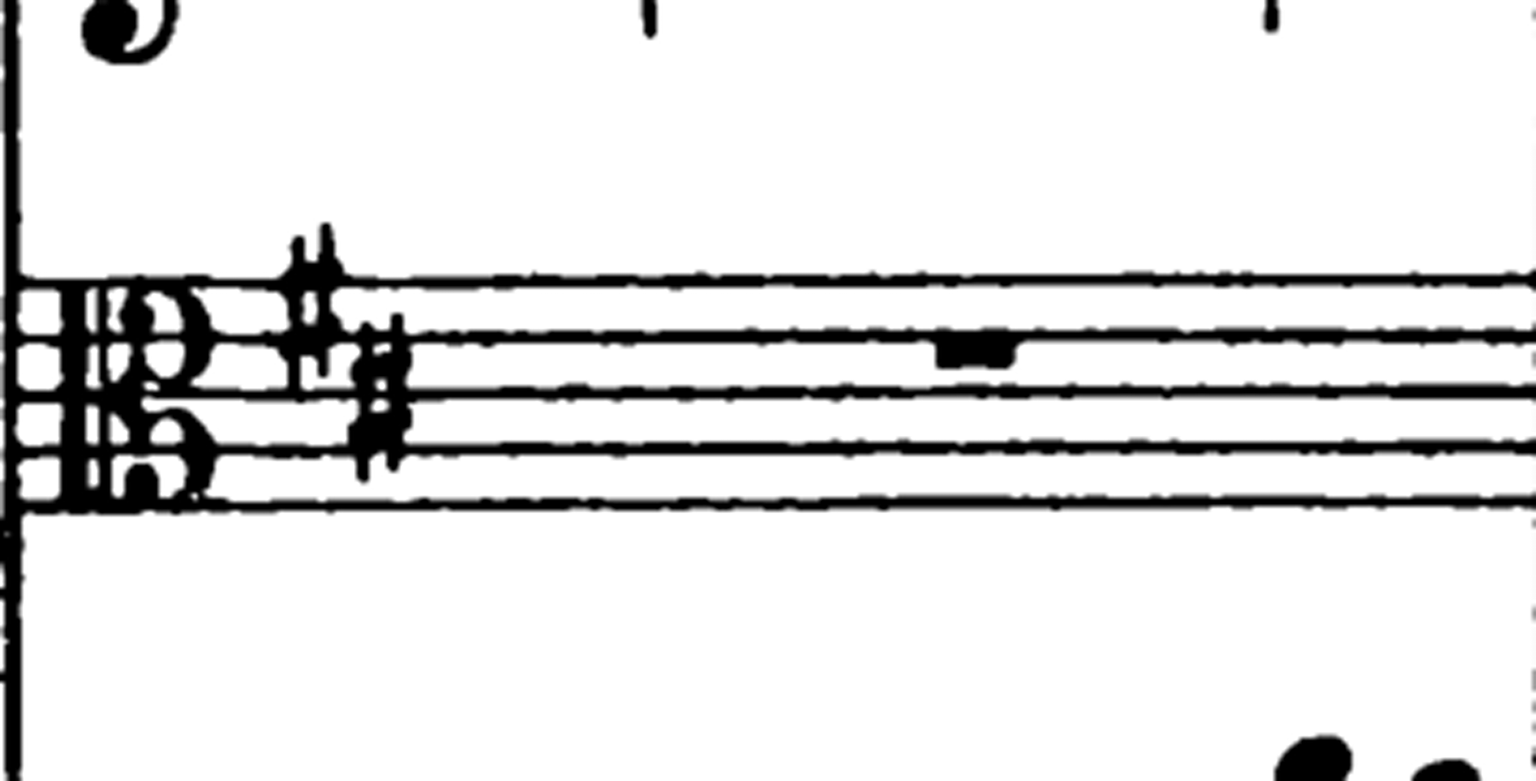clefCAlto: (43, 239, 257, 545)
fermataAbove: (1277, 738, 1351, 780)
noteheadBlackInSpace: (1275, 738, 1350, 779), (82, 0, 132, 39), (986, 346, 1015, 368)
restHalf: (1412, 760, 1479, 781)
restWhole: (641, 0, 656, 37)
